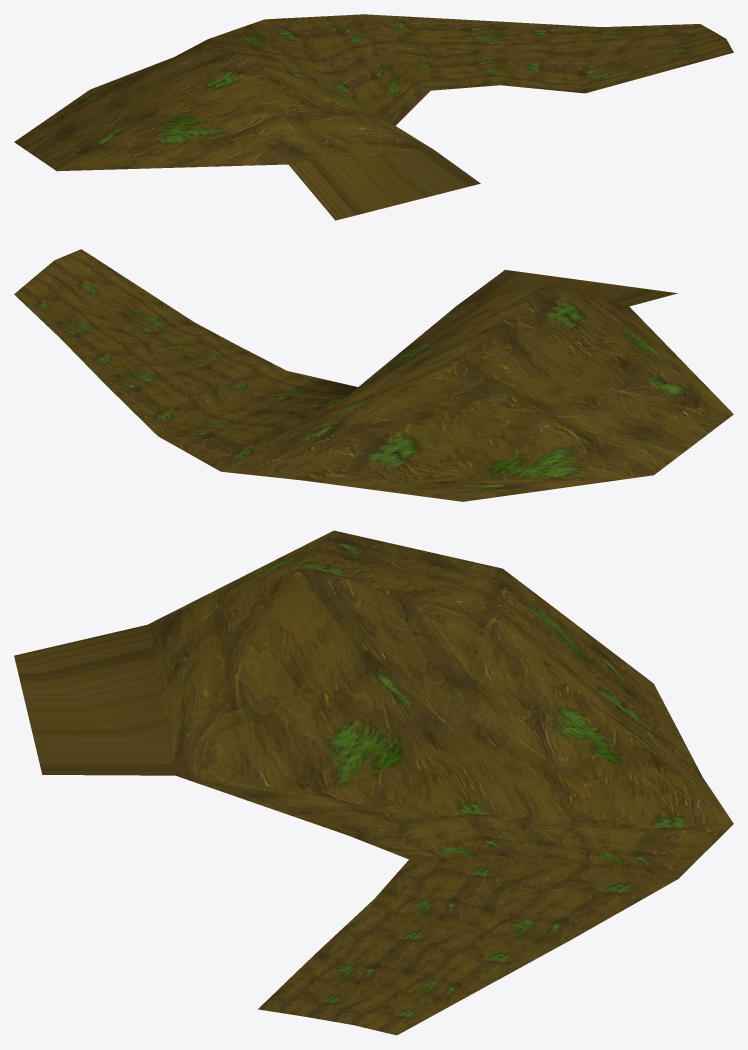
Rendered from MIRKWOOD_AREA3_BARRIERB.fbx.
3 views of the same model, one above another, from view 1: azimuth 30°, elevation 25°; view 2: azimuth 150°, elevation 25°; view 3: azimuth 270°, elevation 25° (orthographic). The views are drawn at different scales.
Visible parts, largest first — view 1: MIRKWOOD_AREA3_BARRIERB; view 2: MIRKWOOD_AREA3_BARRIERB; view 3: MIRKWOOD_AREA3_BARRIERB.
Boxes of the visible parts, x1=… form: MIRKWOOD_AREA3_BARRIERB: x1=14, y1=14, x2=733, y2=220; MIRKWOOD_AREA3_BARRIERB: x1=14, y1=249, x2=733, y2=501; MIRKWOOD_AREA3_BARRIERB: x1=14, y1=530, x2=733, y2=1035.
Bounding box in the file's own units: 843064 × 148188 × 557119.
Materials: 1 (1 with a texture image).
